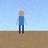person: (16, 10, 26, 33)
